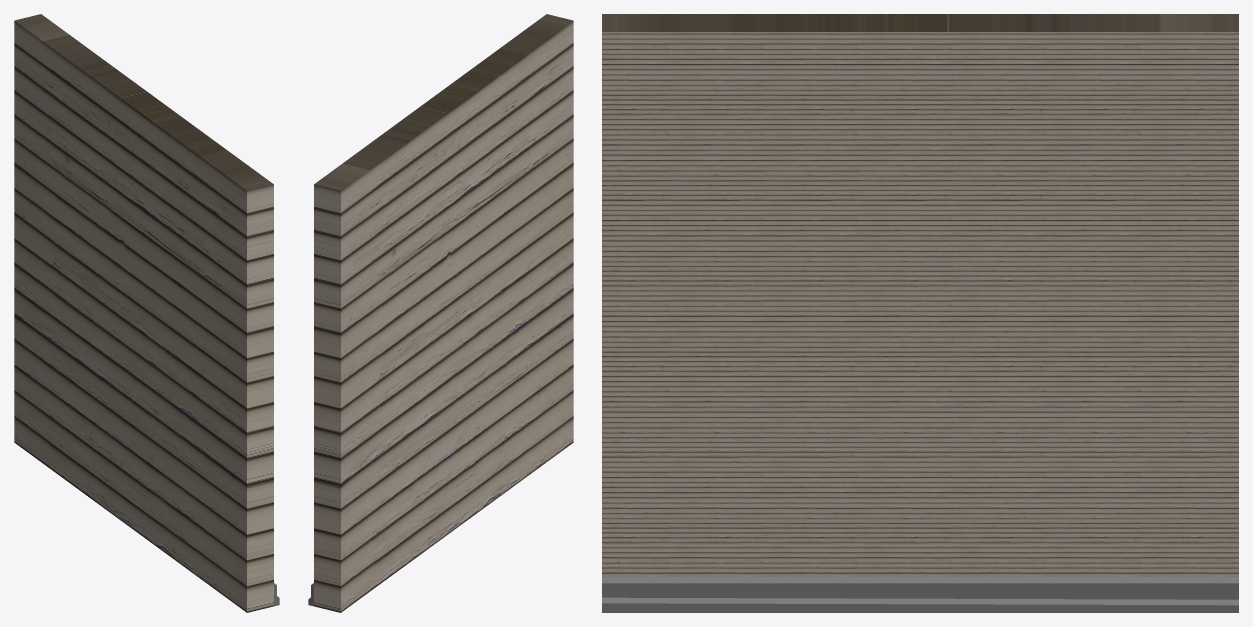
Rendered from WallBase.obj.
3 views of the same model, side by side, from view 1: azimuth 30°, elevation 25°; view 2: azimuth 150°, elevation 25°; view 3: azimuth 270°, elevation 25° (orthographic). The views are drawn at different scales.
Visible parts, largest first — view 1: pCube1; view 2: pCube1; view 3: pCube1.
Boxes of the visible parts, <box> form: pCube1: <box>14,14,279,612</box>; pCube1: <box>308,14,573,612</box>; pCube1: <box>602,14,1238,612</box>.
Bounding box in the file's own units: 24.21 × 300 × 300.
Materials: 2 (1 with a texture image).
